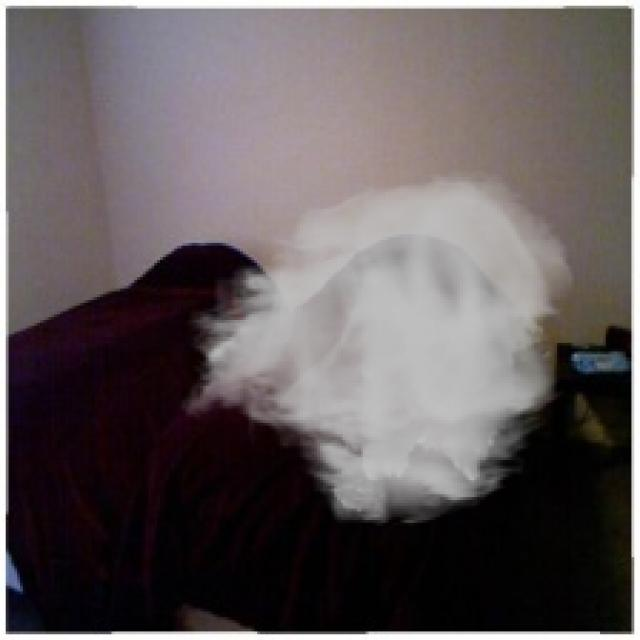smoke: (177, 168, 577, 528)
